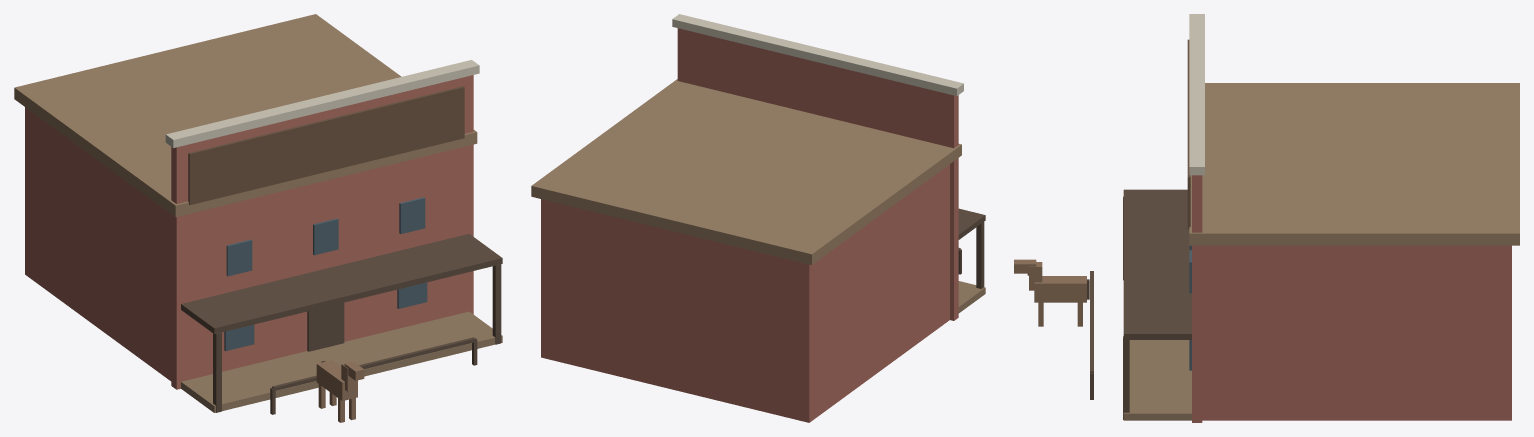
File: w_hotel.glb
3 views of the same model, side by side, from view 1: azimuth 30°, elevation 25°; view 2: azimuth 150°, elevation 25°; view 3: azimuth 270°, elevation 25° (orthographic). The views are drawn at different scales.
Visible parts, largest first — view 1: koerper; view 2: koerper; view 3: koerper.
Boxes of the visible parts, box(x1,y1,x2,y2) form: koerper: box(14, 14, 502, 422); koerper: box(531, 14, 985, 422); koerper: box(1014, 14, 1519, 422).
Size of the model in its own units: 13.8 by 10.85 by 19.28.
